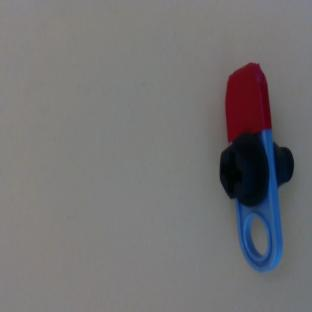part_1_good: (212, 62, 300, 273)
